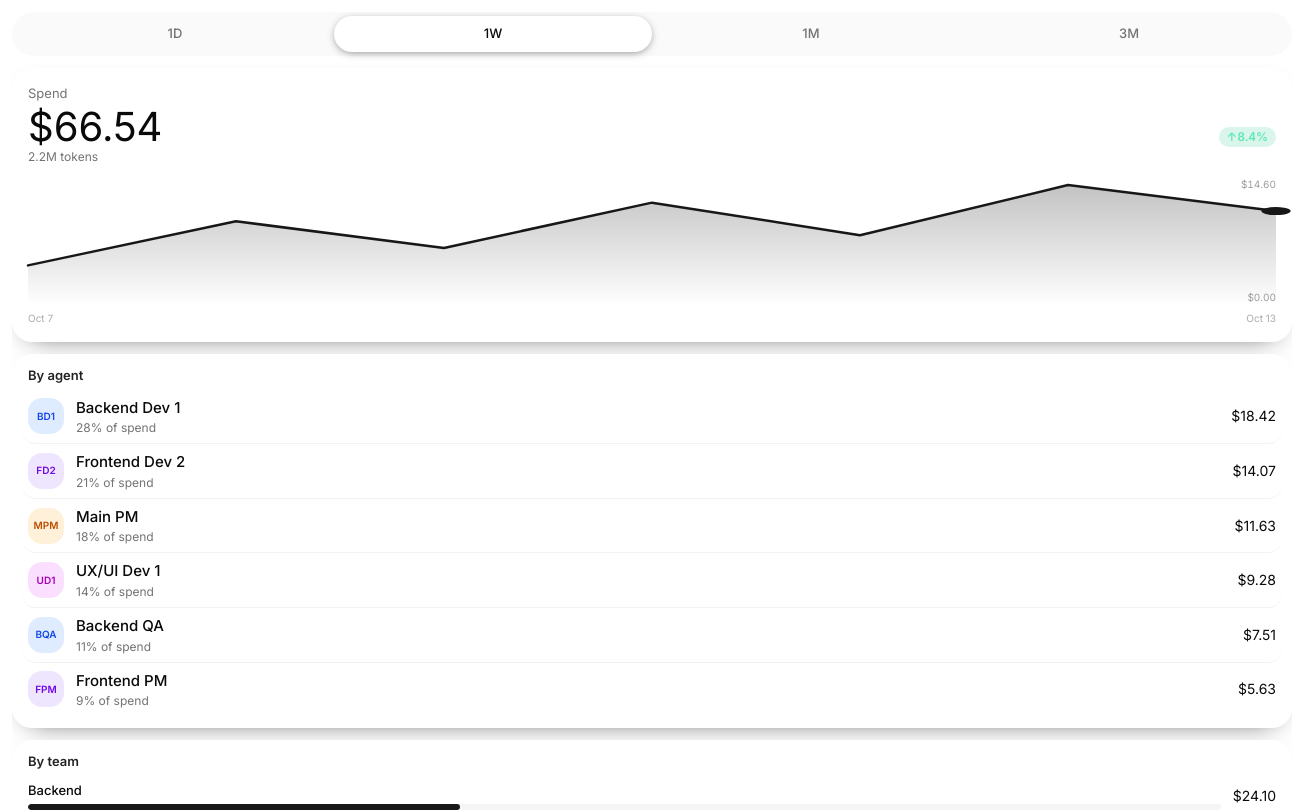
Test case: TgMetricsTab › pushes the agent drilldown when a by-agent row is tapped
Expected: the text "$66.54" is shown, top-left (28, 107), bottom-right (162, 147)
Step 1. Click the text "Backend Dev 1" → {"x": 128, "y": 407}, box top-left (76, 398), bottom-right (180, 416)
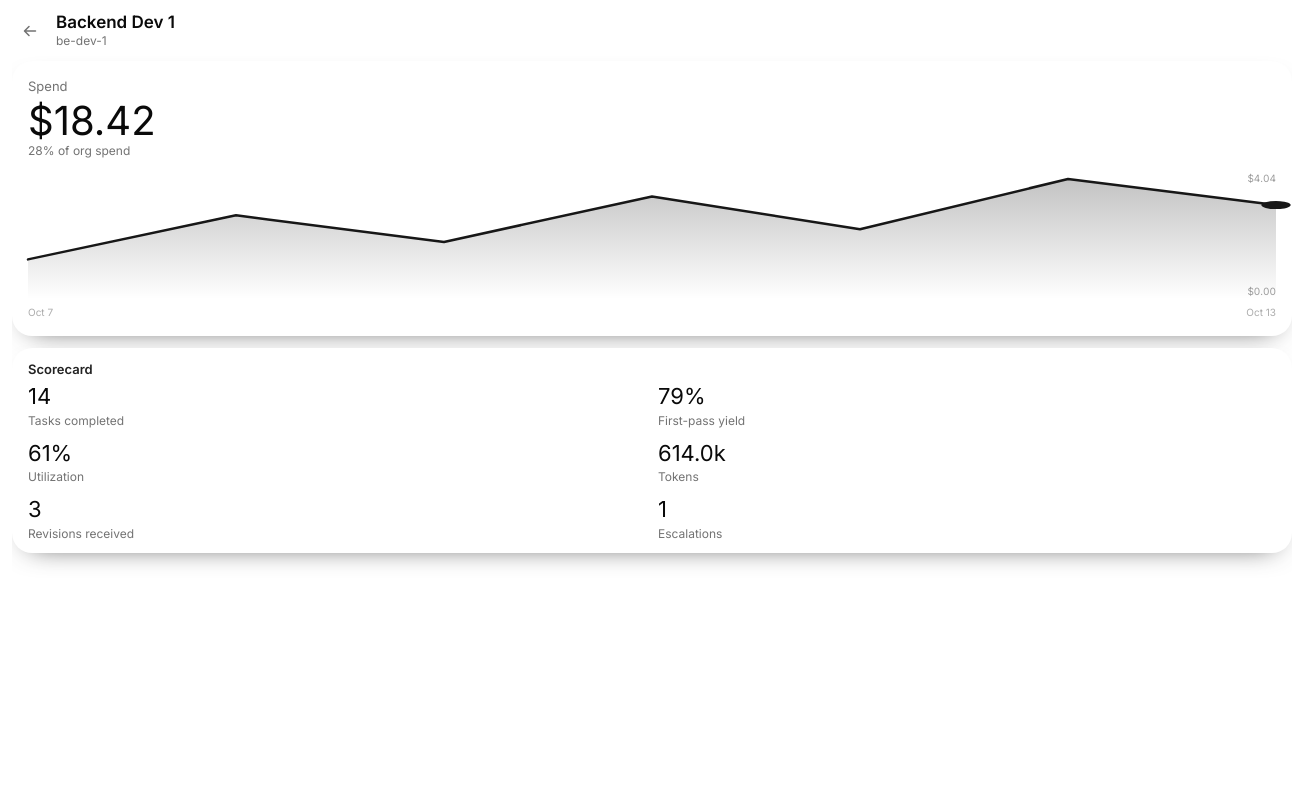
Expected: the heading "Backend Dev 1" is shown, top-left (56, 12), bottom-right (175, 32)
Expected: the text "be-dev-1" is shown, top-left (56, 33), bottom-right (107, 48)
